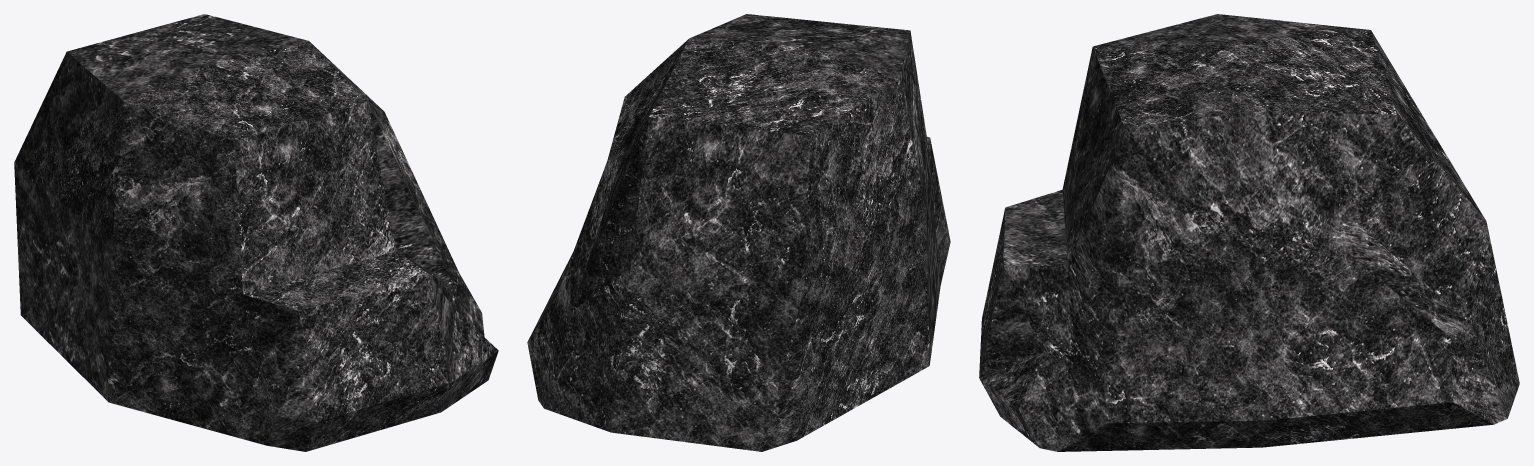
Rendered from rocha_c.glb.
3 renders of one model, left to right at view 1: azimuth 30°, elevation 25°; view 2: azimuth 150°, elevation 25°; view 3: azimuth 270°, elevation 25°, orthographic. The views are drawn at different scales.
Parts seen in each view (by area): view 1: Rock_5_Cube.024; view 2: Rock_5_Cube.024; view 3: Rock_5_Cube.024.
Part boxes in pixels (x1,y1,x2,y2): Rock_5_Cube.024: [14, 14, 498, 451]; Rock_5_Cube.024: [527, 14, 950, 451]; Rock_5_Cube.024: [979, 14, 1519, 451].
Bounding box in the file's own units: 0.6632 × 0.6528 × 0.9148.
1 material, 1 textured.
